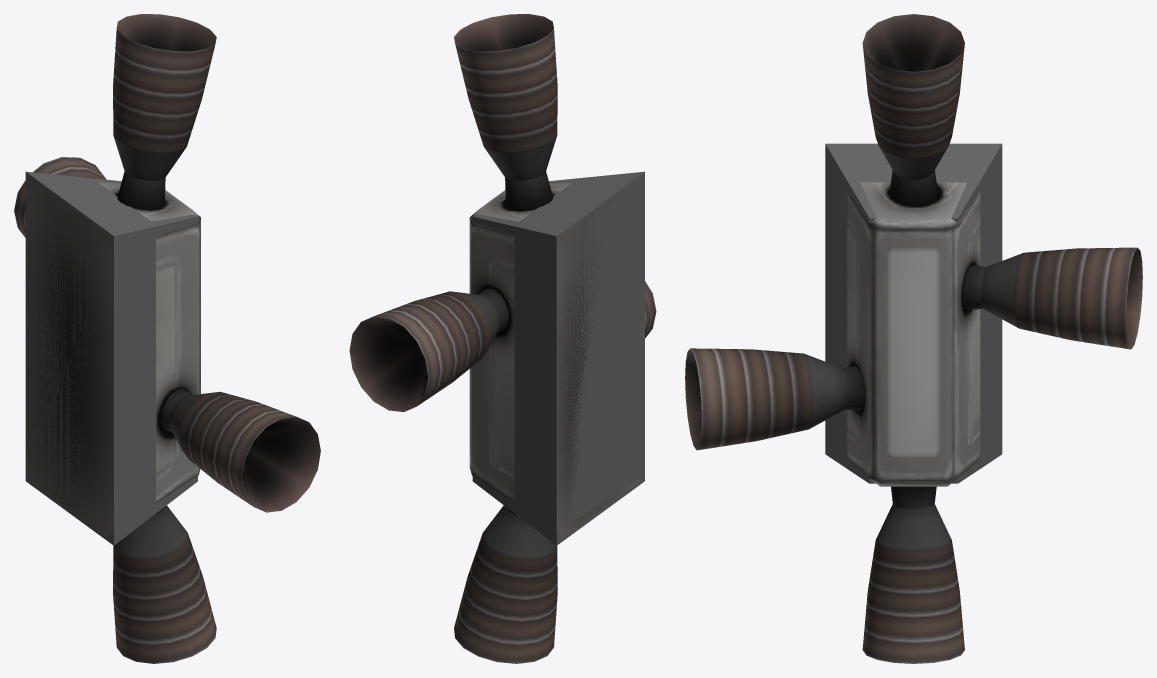
Rendered from Apollo_Block2_RCS.dae.
3 renders of one model, left to right at view 1: azimuth 30°, elevation 25°; view 2: azimuth 150°, elevation 25°; view 3: azimuth 270°, elevation 25°, orthographic.
Parts seen in each view (by area): view 1: Apollo_rcsBlock1, pCube40; view 2: Apollo_rcsBlock1, pCube40; view 3: Apollo_rcsBlock1, pCube40.
Part boxes in pixels (x1=…): Apollo_rcsBlock1: x1=14, y1=14, x2=320, y2=663; pCube40: x1=25, y1=171, x2=197, y2=545; Apollo_rcsBlock1: x1=349, y1=14, x2=656, y2=663; pCube40: x1=472, y1=171, x2=644, y2=545; Apollo_rcsBlock1: x1=685, y1=14, x2=1142, y2=663; pCube40: x1=825, y1=143, x2=1002, y2=483.
Size of the model in its own units: 0.1742 by 0.7096 by 0.473.
